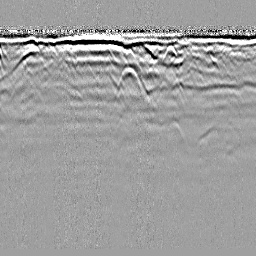cavity: (115, 62, 143, 96)
